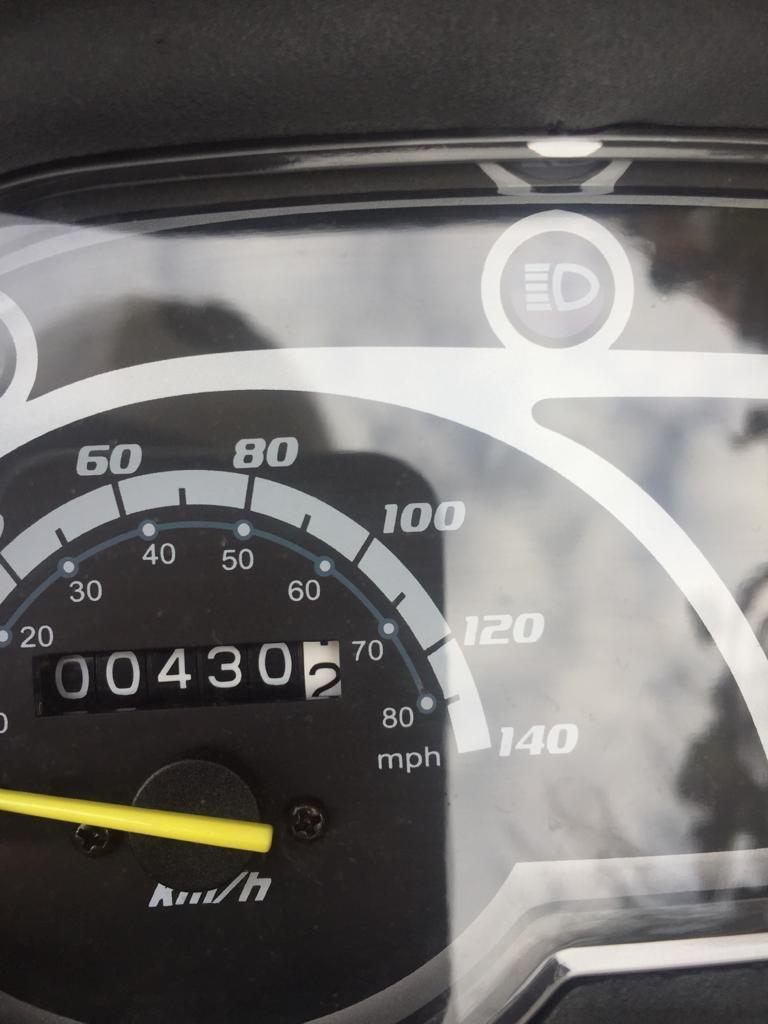0: (255, 641, 294, 687), (52, 653, 90, 700), (103, 649, 141, 696), (36, 634, 55, 647)
2: (306, 660, 341, 699), (24, 634, 35, 648)
3: (205, 644, 243, 689)
4: (155, 647, 192, 690)
odometer: (24, 634, 347, 721)
